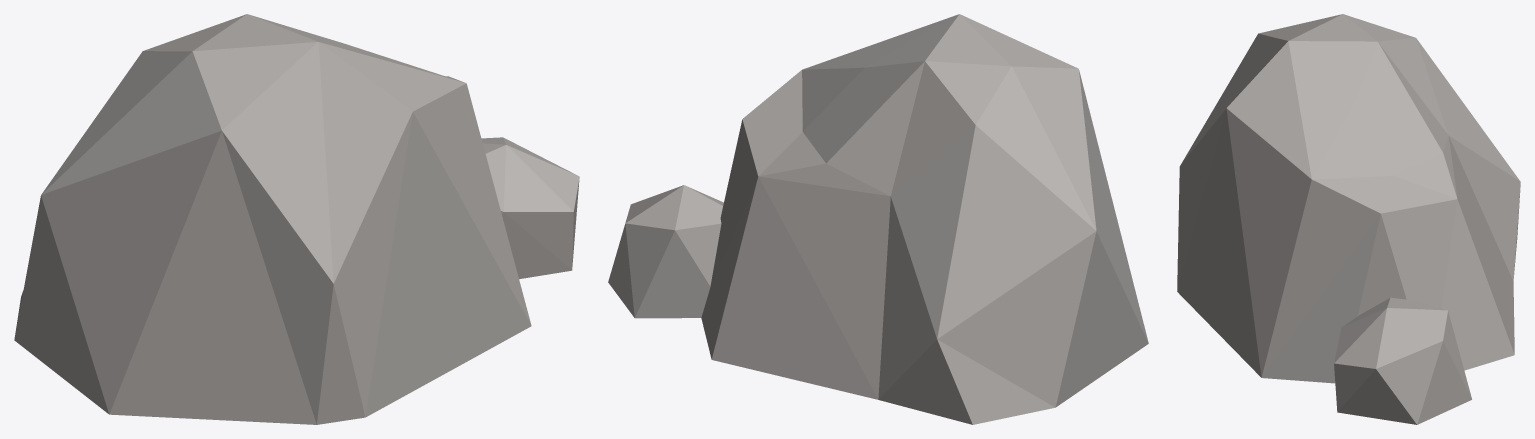
The model's file is Rock02.fbx.
3 views of the same model, side by side, from view 1: azimuth 30°, elevation 25°; view 2: azimuth 150°, elevation 25°; view 3: azimuth 270°, elevation 25° (orthographic). The views are drawn at different scales.
Parts seen in each view (by area): view 1: Rock02; view 2: Rock02; view 3: Rock02.
Boxes of the visible parts, x1=… form: Rock02: x1=14, y1=14, x2=579, y2=424; Rock02: x1=608, y1=14, x2=1148, y2=424; Rock02: x1=1177, y1=14, x2=1520, y2=424.
Bounding box in the file's own units: 1.8 × 1.04 × 1.24.
